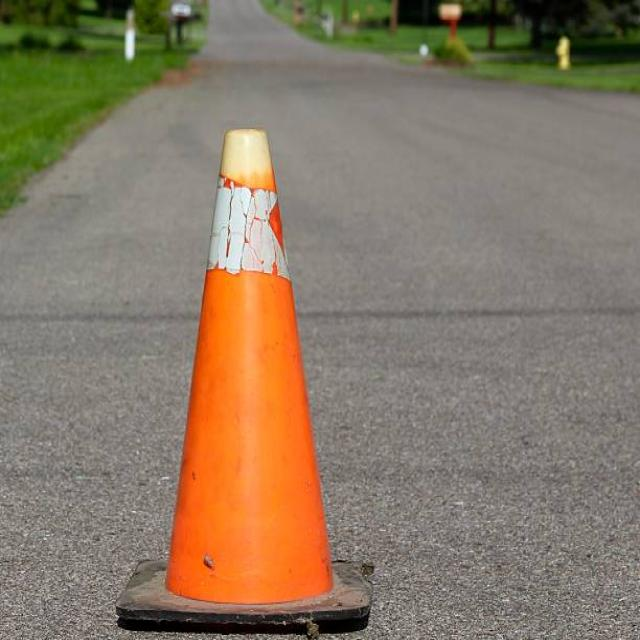Traffic Cone: (102, 93, 400, 640)
